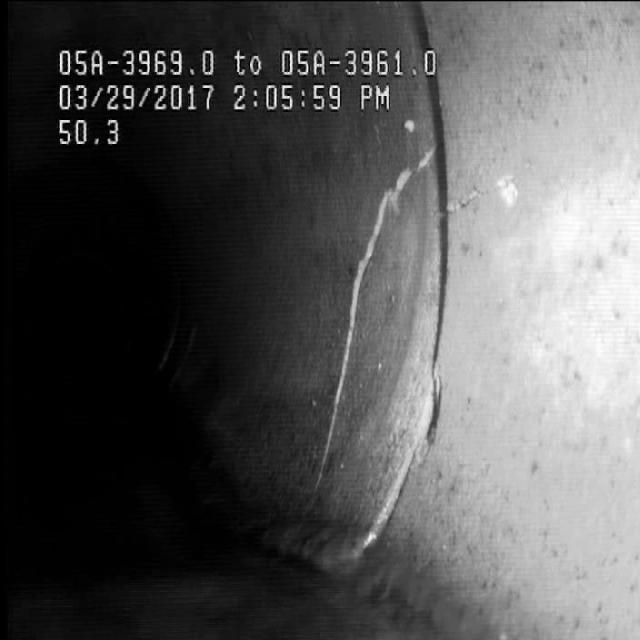Crack: (320, 144, 416, 472)
